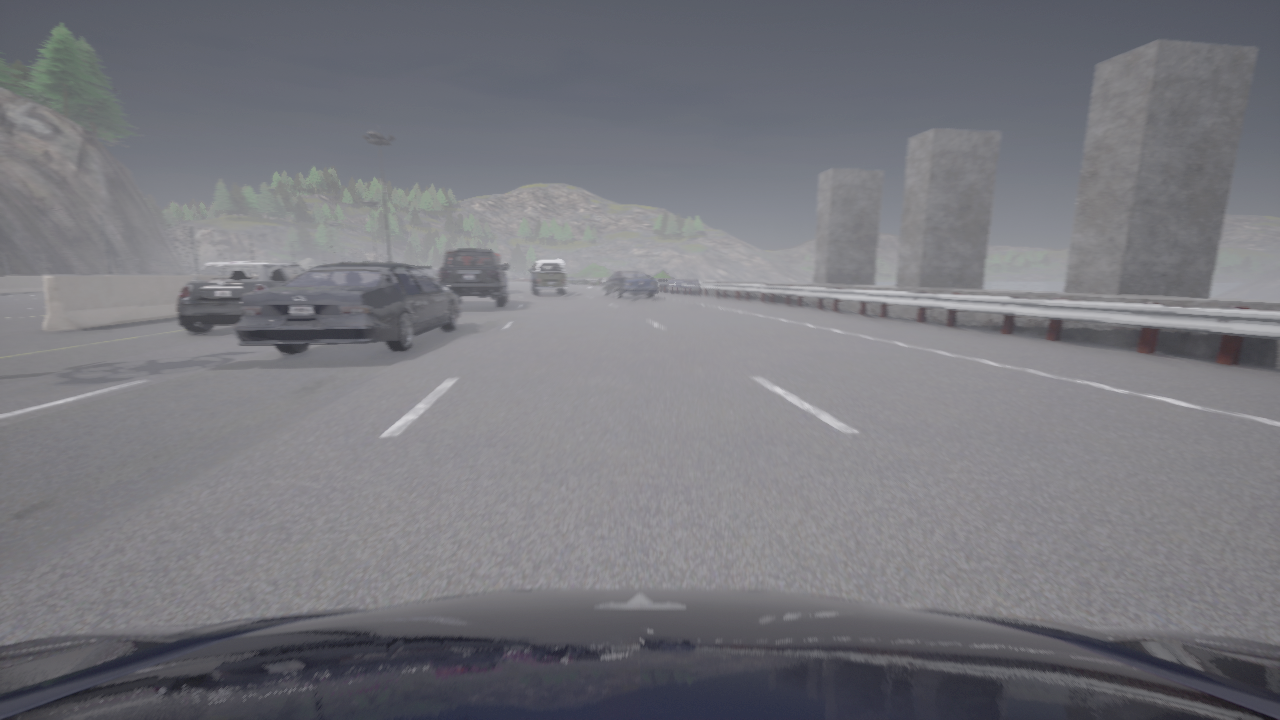cyclist: (0, 588, 1279, 719), (233, 263, 461, 354), (177, 263, 305, 332), (438, 249, 508, 307), (601, 270, 657, 298), (528, 259, 566, 295), (415, 267, 437, 284), (496, 254, 503, 267), (430, 268, 437, 274)
